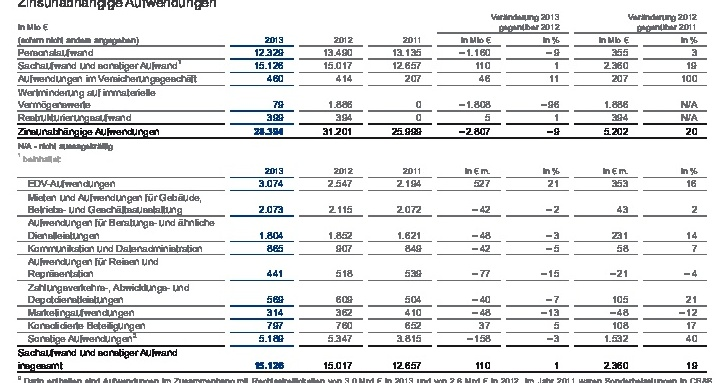table: (0, 0, 722, 383)
